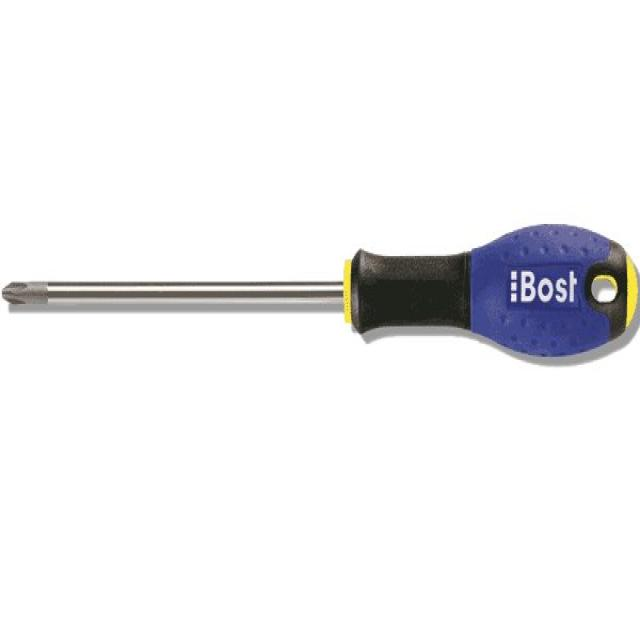screw_driver: (2, 225, 640, 356)
